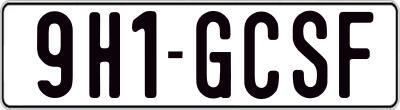1: (132, 8, 156, 99)
9: (35, 10, 76, 98)
C: (242, 11, 278, 102)
F: (339, 11, 375, 102)
G: (195, 9, 233, 101)
H: (89, 9, 121, 98)
S: (290, 11, 328, 104)
